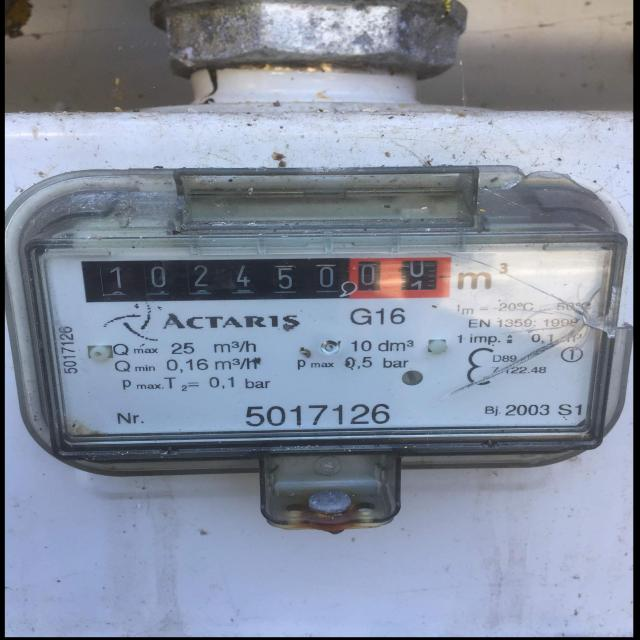gaz_meter: (38, 234, 610, 444)
indication: (86, 259, 456, 305)
